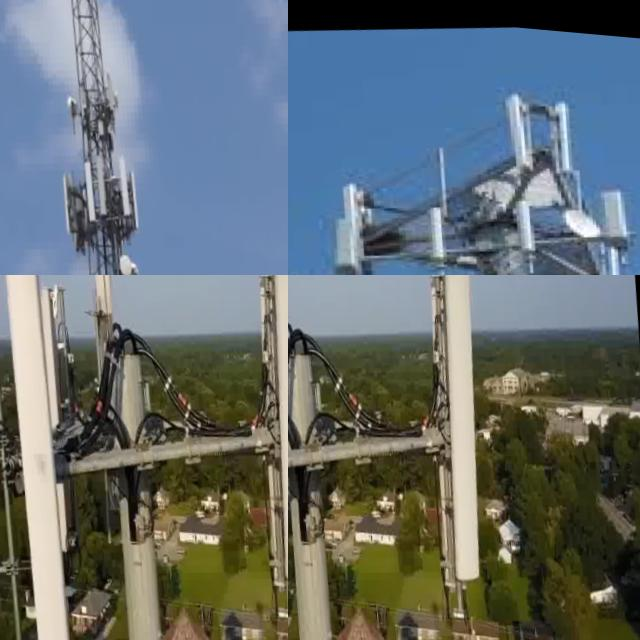GSM Antenna: (0, 275, 100, 640), (412, 275, 513, 588), (32, 275, 95, 559), (244, 275, 288, 626), (239, 275, 288, 588), (535, 79, 592, 181), (331, 172, 383, 274), (481, 72, 537, 165), (92, 275, 125, 383), (419, 201, 461, 274), (596, 176, 636, 233), (79, 146, 106, 222), (116, 150, 141, 224), (288, 275, 302, 398), (93, 142, 116, 213)
Microwave Antenna: (119, 242, 140, 273), (67, 83, 81, 115), (132, 253, 147, 275), (115, 81, 123, 103)
